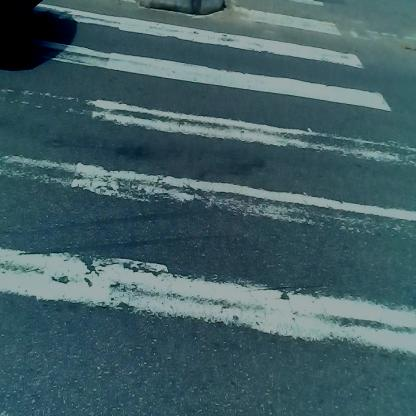crosswalk: (14, 30, 385, 375)
